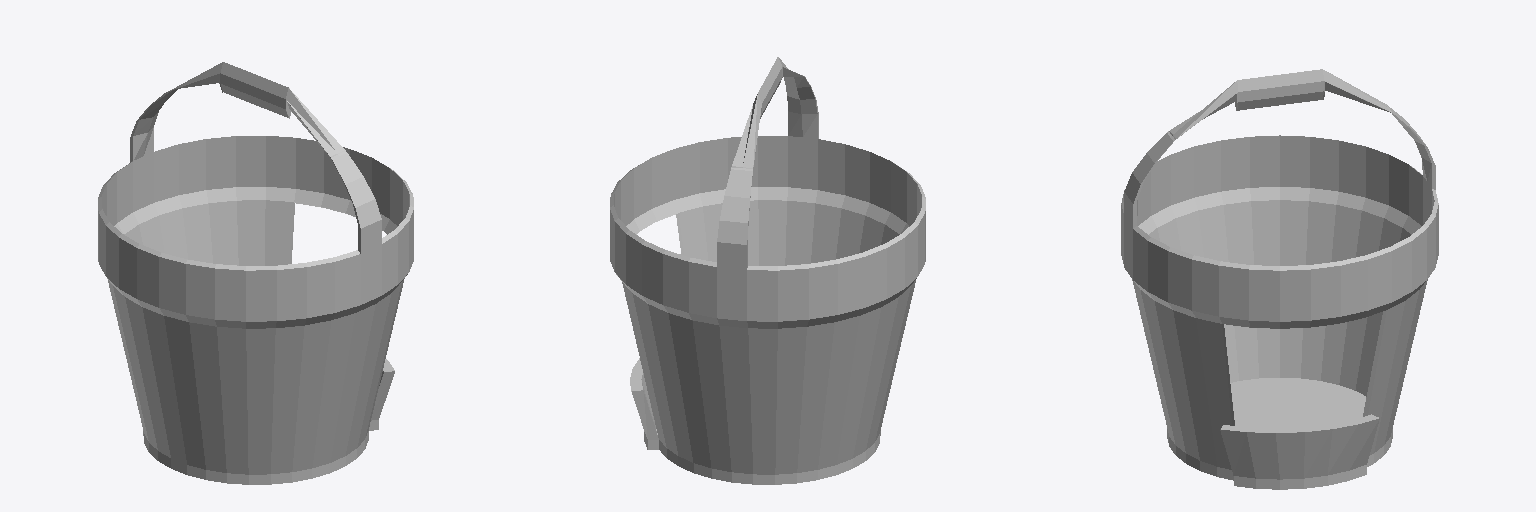
The model's file is Bucket w_Hole 1.obj.
3 renders of one model, left to right at view 1: azimuth 30°, elevation 25°; view 2: azimuth 150°, elevation 25°; view 3: azimuth 270°, elevation 25°, orthographic.
Visible parts, largest first — view 1: Cylinder; view 2: Cylinder; view 3: Cylinder.
Boxes of the visible parts, box(x1,y1,x2,y2) form: Cylinder: box(98, 62, 413, 484); Cylinder: box(610, 57, 925, 484); Cylinder: box(1121, 69, 1438, 489).
Bounding box in the file's own units: 2.81 × 3.55 × 2.81.